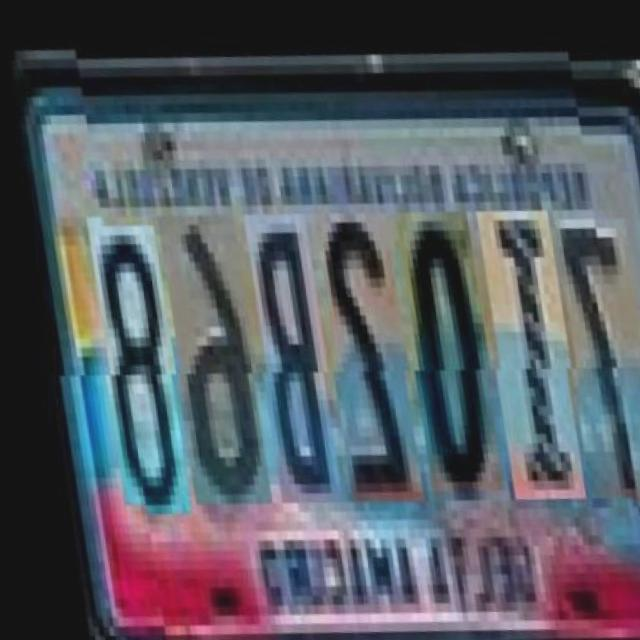2: (302, 199, 409, 494)
6: (146, 200, 257, 496)
7: (541, 197, 640, 492)
8: (75, 211, 177, 506)
b: (231, 200, 329, 495)
i: (465, 197, 572, 493)
o: (384, 197, 489, 484)
